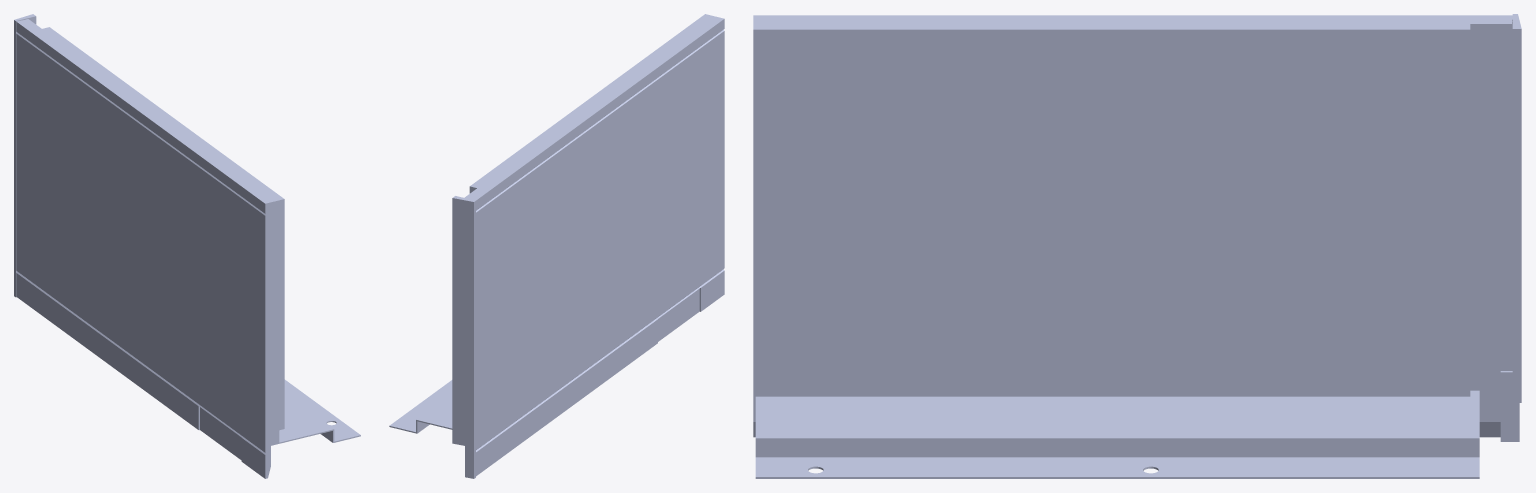
File: lg-kava-C300-p.glb
3 views of the same model, side by side, from view 1: azimuth 30°, elevation 25°; view 2: azimuth 150°, elevation 25°; view 3: azimuth 270°, elevation 25° (orthographic). The views are drawn at different scales.
Visible parts, largest first — view 1: 42115744; view 2: 42115744; view 3: 42115744.
Boxes of the visible parts, x1=… form: 42115744: x1=14, y1=14, x2=360, y2=478; 42115744: x1=389, y1=14, x2=724, y2=478; 42115744: x1=753, y1=14, x2=1521, y2=478.
Size of the model in its own units: 0.0653 by 0.1777 by 0.2935.
